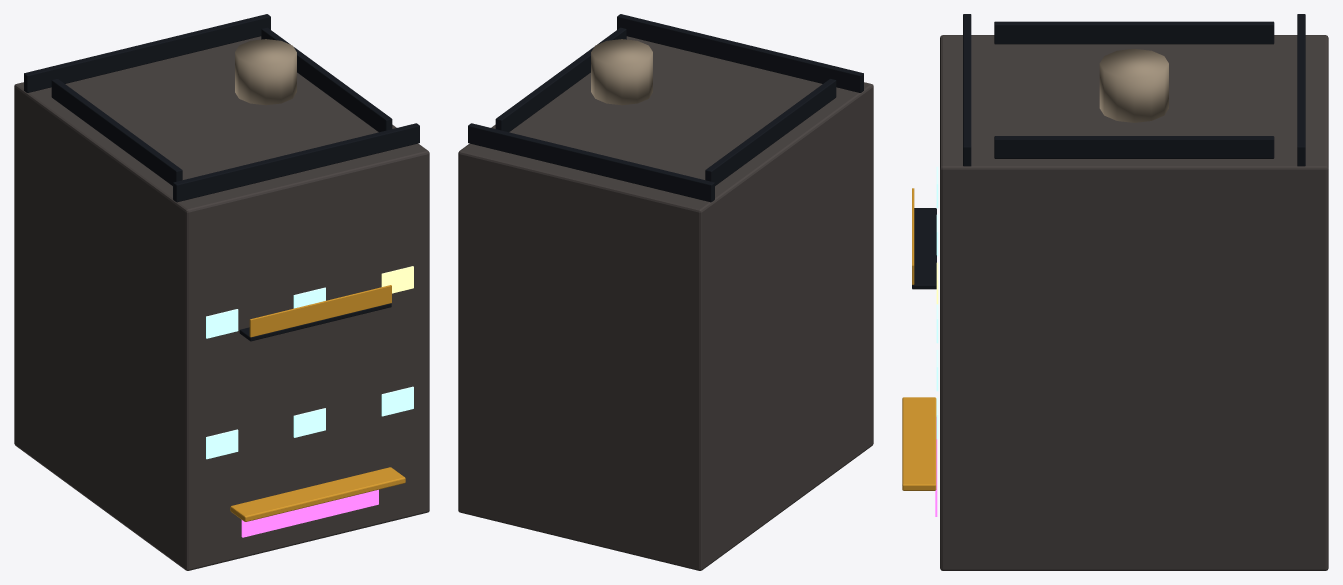
Rendered from Building_A.fbx.
3 views of the same model, side by side, from view 1: azimuth 30°, elevation 25°; view 2: azimuth 150°, elevation 25°; view 3: azimuth 270°, elevation 25° (orthographic). The views are drawn at different scales.
Visible parts, largest first — view 1: Building_000; view 2: Building_000; view 3: Building_000.
Boxes of the visible parts, box(x1,y1,x2,y2) form: Building_000: box(14, 14, 429, 570); Building_000: box(458, 14, 873, 570); Building_000: box(902, 14, 1328, 570).
Bounding box in the file's own units: 6.05 × 9.87 × 8.18.
